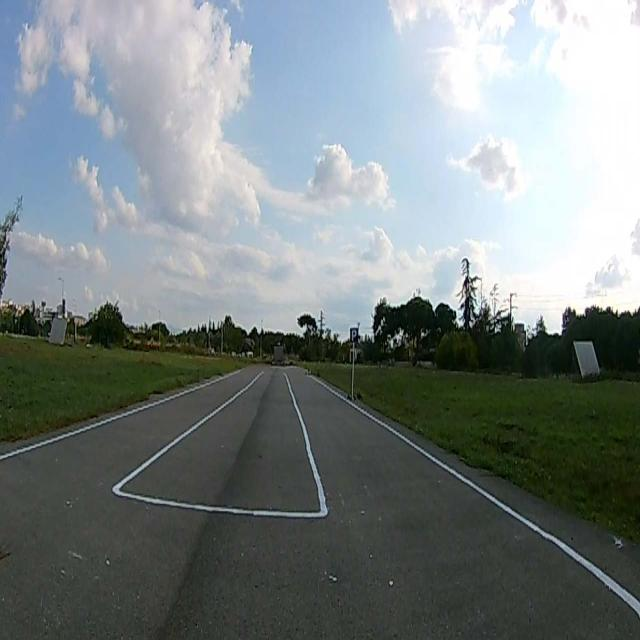park: (350, 328, 359, 345)
